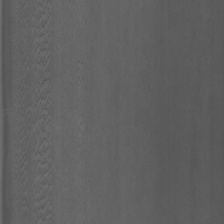silk_spot: (25, 9, 55, 205)
